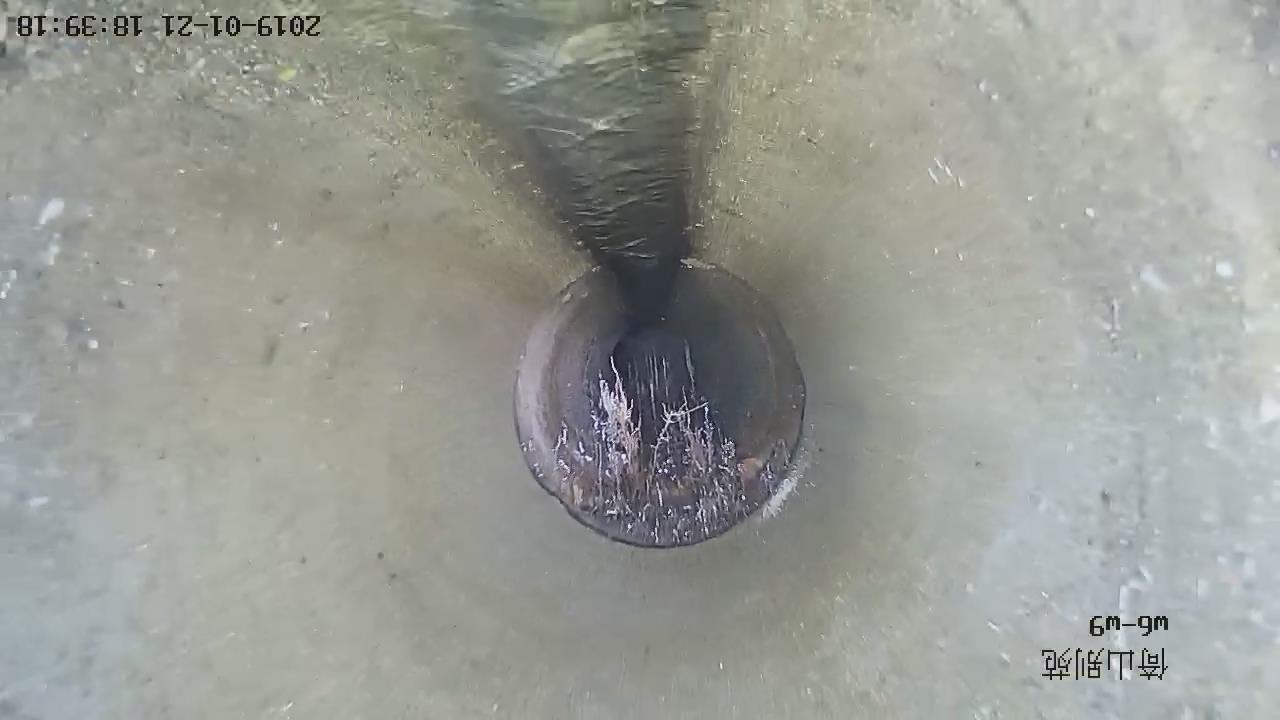SG: (523, 328, 788, 549)
